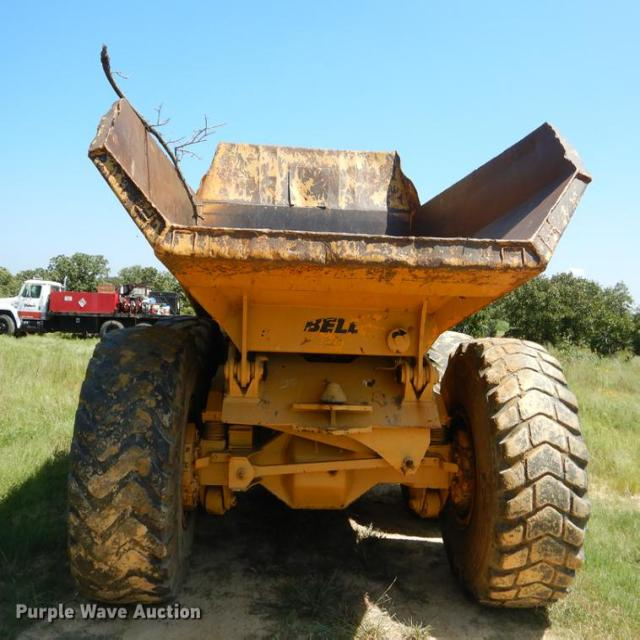dump_truck: (66, 62, 603, 611)
